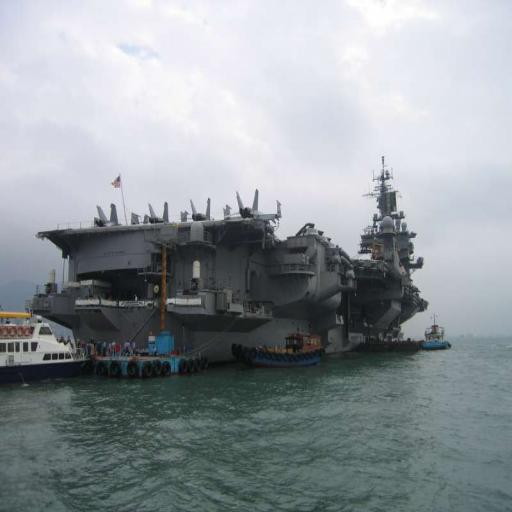Portanaves: (33, 119, 437, 377)
